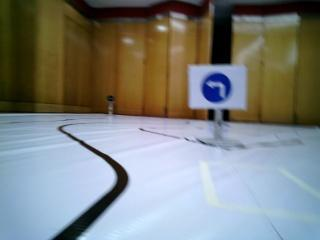left: (185, 66, 246, 108)
